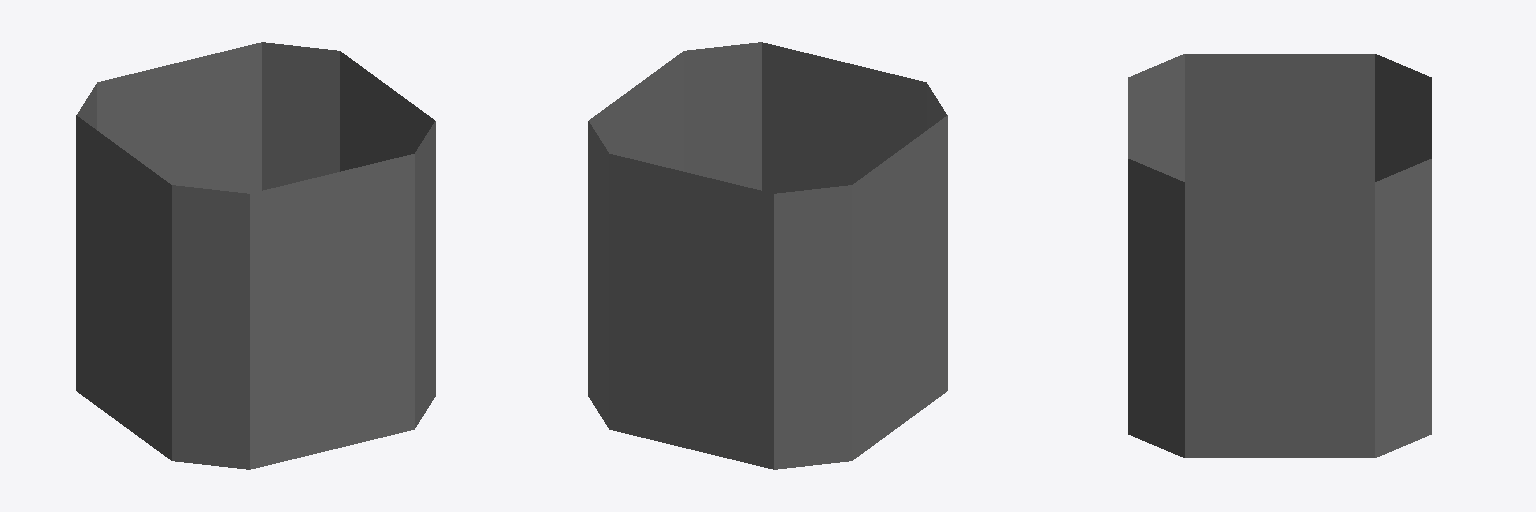
The model's file is pillar_center.obj.
The picture shows the model from 3 angles: view 1: azimuth 30°, elevation 25°; view 2: azimuth 150°, elevation 25°; view 3: azimuth 270°, elevation 25°; orthographic projection.
Bounding box in the file's own units: 1 × 1 × 1.